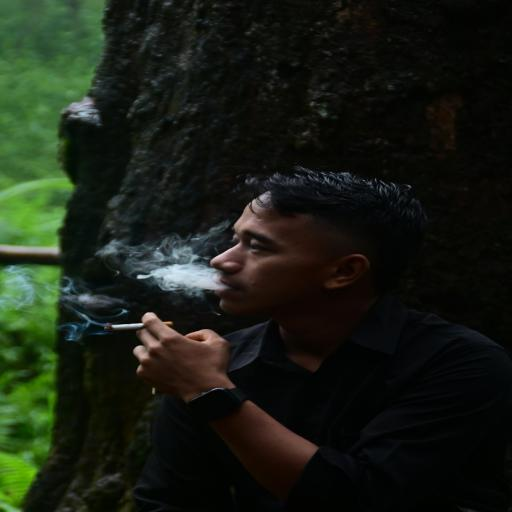terdeteksi pegang rokok: (83, 297, 199, 395)
